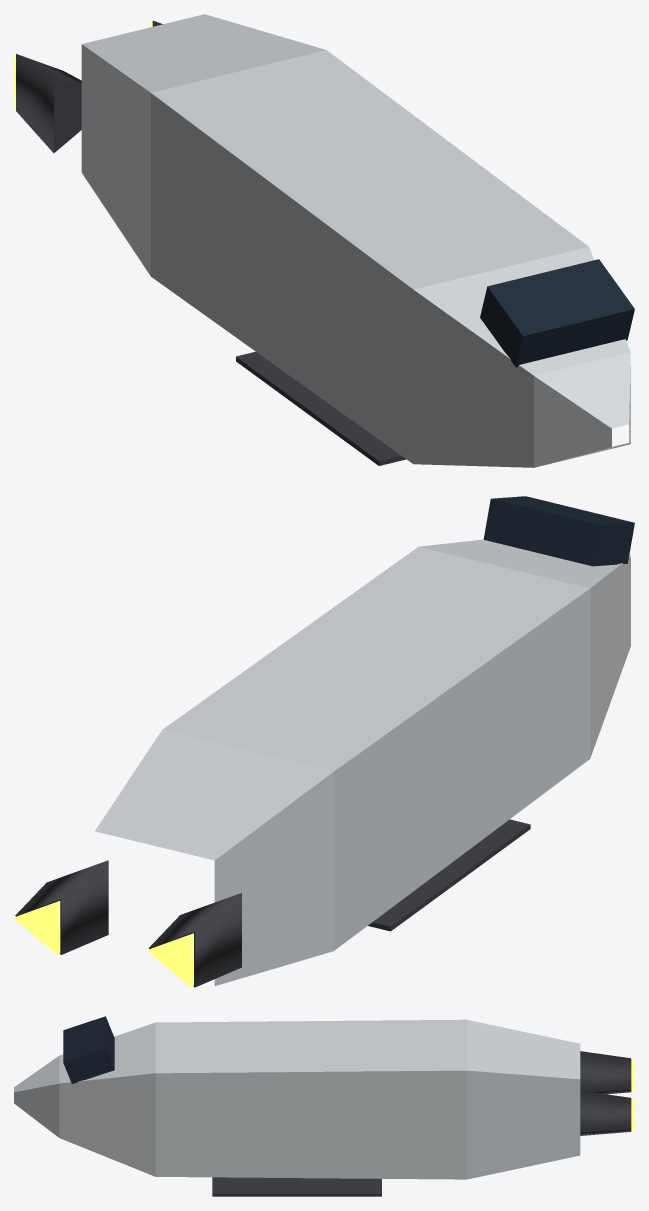
The model's file is space_ship_transport_mk1_lod2.glb.
3 views of the same model, one above another, from view 1: azimuth 30°, elevation 25°; view 2: azimuth 150°, elevation 25°; view 3: azimuth 270°, elevation 25° (orthographic). The views are drawn at different scales.
Visible parts, largest first — view 1: body, engine_1, hangar_door; view 2: body, engine_0, engine_1, hangar_door; view 3: body, hangar_door, engine_0, engine_1.
Part boxes in pixels (x1=…): body: x1=81, y1=14, x2=634, y2=467; engine_1: x1=14, y1=53, x2=81, y2=153; hangar_door: x1=236, y1=351, x2=406, y2=465; body: x1=95, y1=496, x2=634, y2=985; engine_0: x1=14, y1=860, x2=108, y2=954; engine_1: x1=148, y1=893, x2=241, y2=987; hangar_door: x1=368, y1=819, x2=530, y2=931; body: x1=14, y1=1016, x2=580, y2=1179; hangar_door: x1=212, y1=1177, x2=381, y2=1196; engine_0: x1=580, y1=1090, x2=634, y2=1135; engine_1: x1=580, y1=1051, x2=634, y2=1094.
Bounding box in the file's own units: 4.35 × 5.01 × 19.74.
